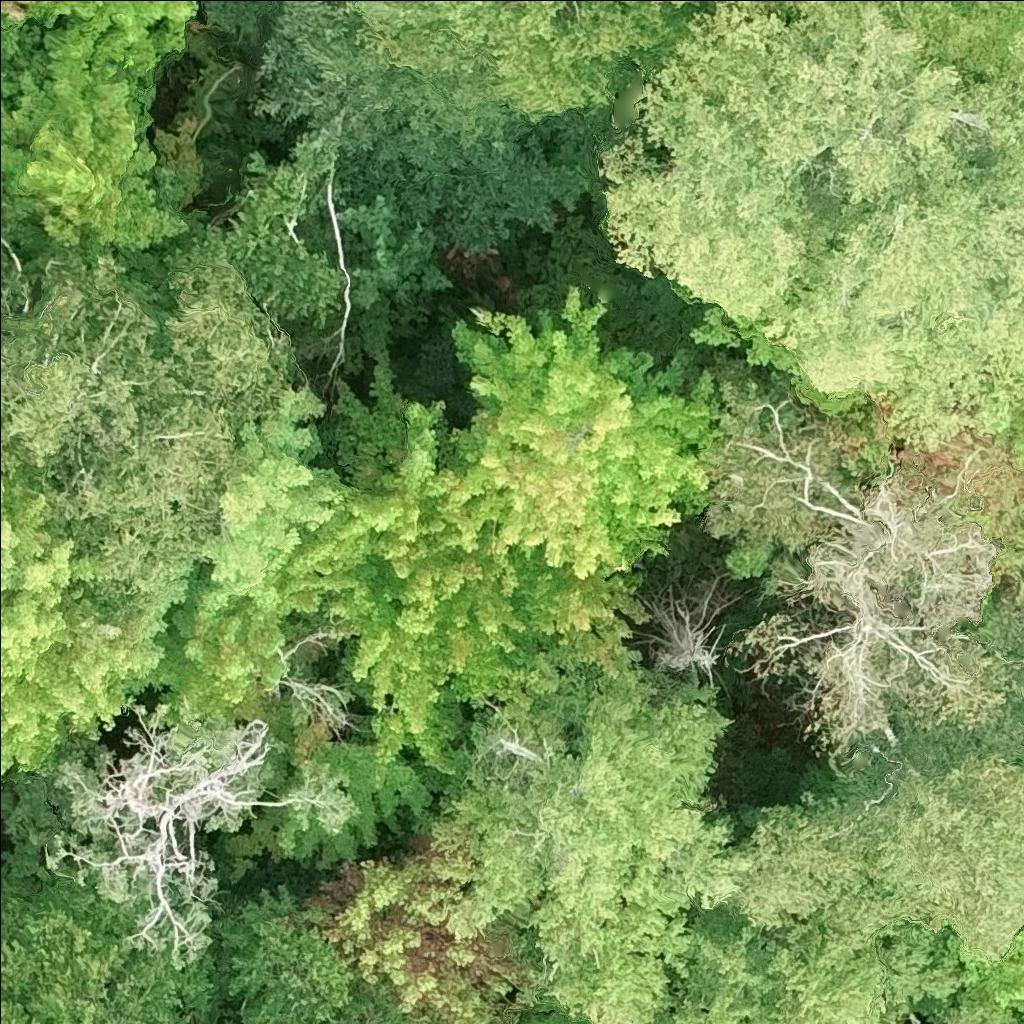crown: (600, 0, 1023, 444), (709, 365, 1023, 772), (319, 400, 649, 784), (0, 260, 292, 654), (431, 662, 731, 1023), (126, 389, 363, 733), (52, 706, 353, 969), (455, 288, 723, 575), (687, 753, 1023, 966), (0, 477, 160, 775), (0, 14, 196, 257), (830, 598, 1023, 805), (304, 853, 535, 1023), (0, 847, 219, 1023), (679, 896, 981, 1023), (211, 881, 441, 1023), (775, 0, 1023, 72), (31, 0, 199, 87), (957, 924, 1023, 1023), (0, 0, 36, 30), (960, 997, 996, 1023), (662, 0, 686, 3)
